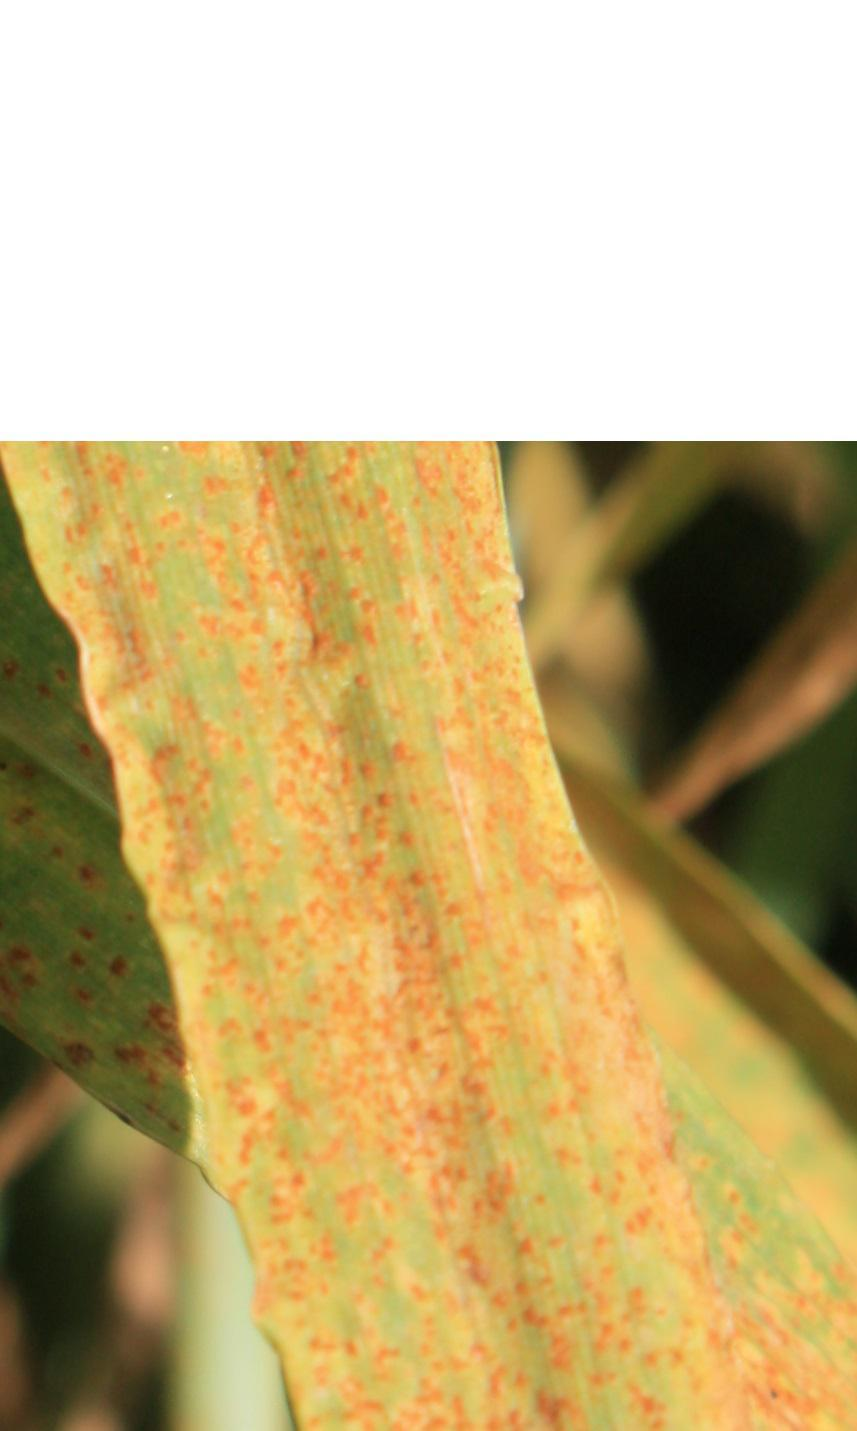Wheat: (69, 476, 575, 1032), (249, 1067, 711, 1411)
